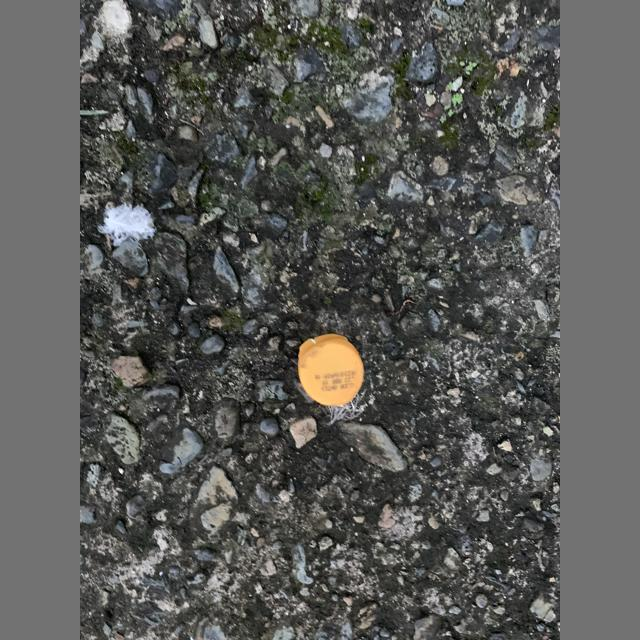litter: (297, 333, 364, 407)
